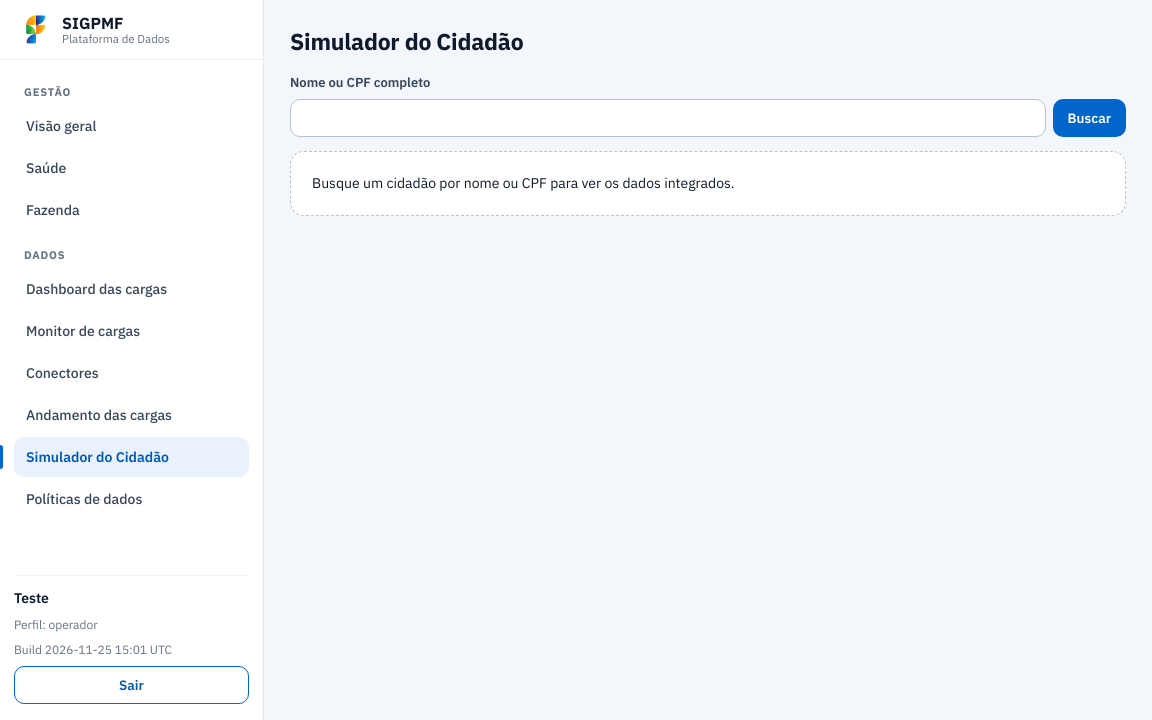
Test: ficha do cidadão (tela branca) › 500 na rota de detalhe mostra erro com motivo e volta à busca
Type "Fulano" into the field labelled "Nome ou CPF completo" at [668, 118], box [290,99,1046,137]
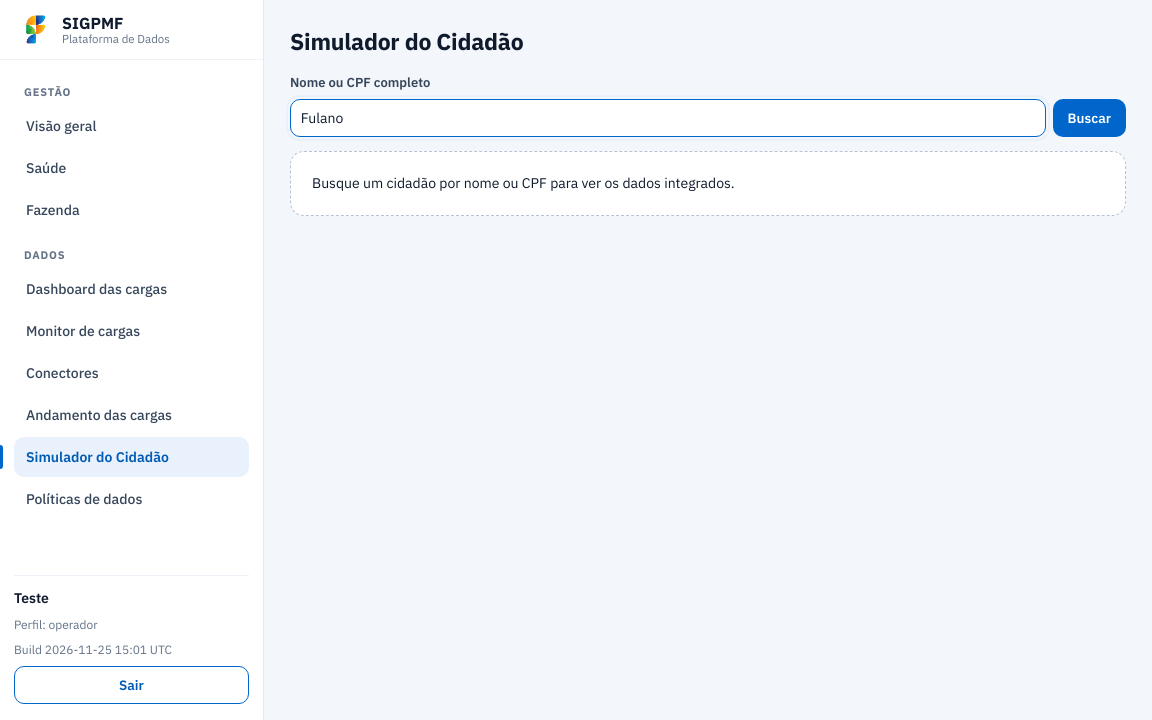
Click the button "Buscar" at [1089, 118], box [1053,99,1126,137]
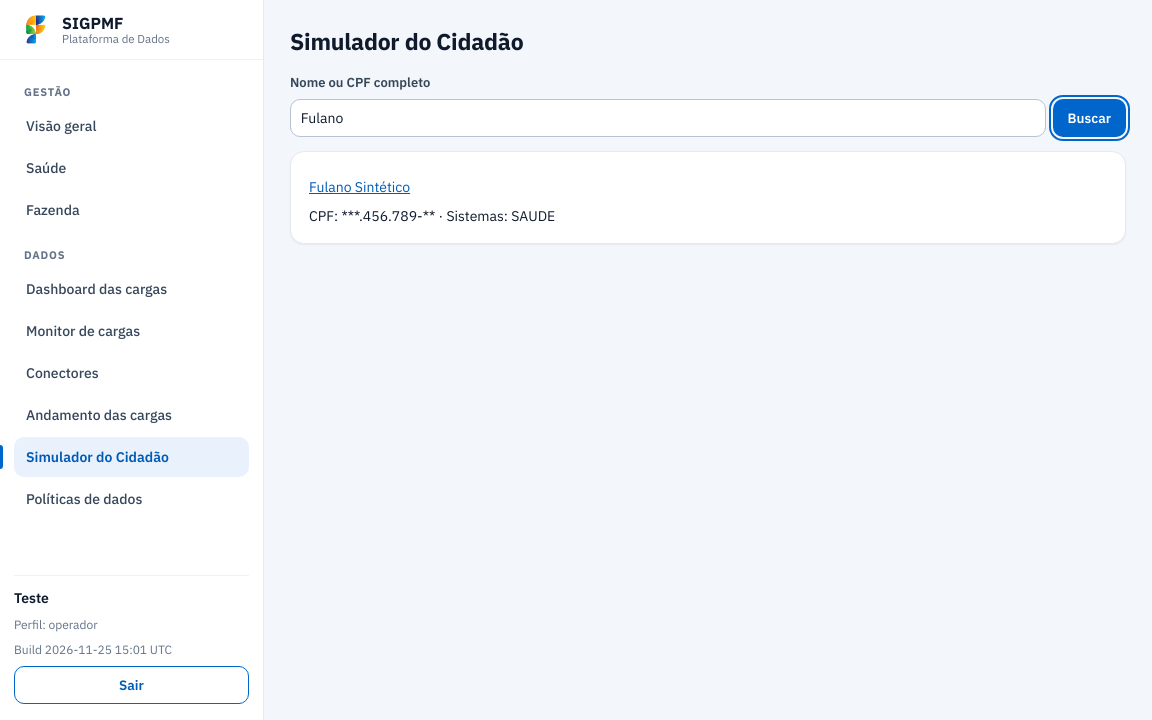
Click the button "Fulano Sintético" at [360, 187], box [309,168,410,206]
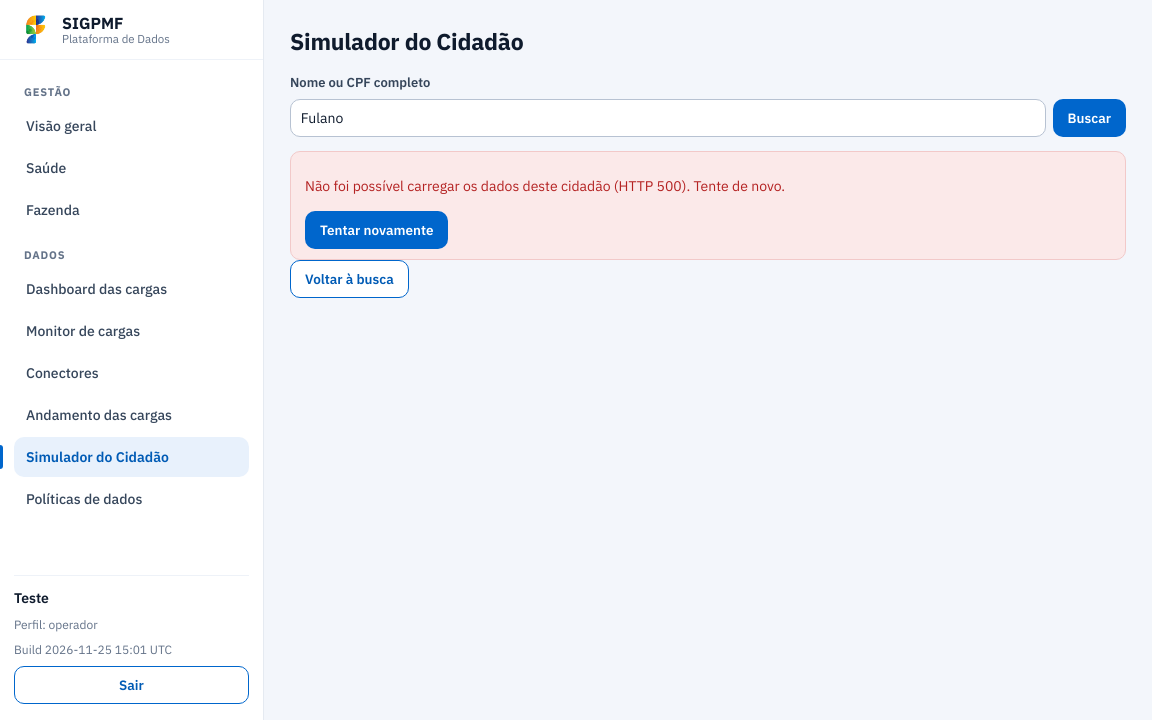
Expected: the text "Não foi possível carregar os dados deste cidadão (HTTP 500)" is shown, [305,177,785,195]
Click the button "Voltar à busca" at [349, 279], box [290,260,409,298]
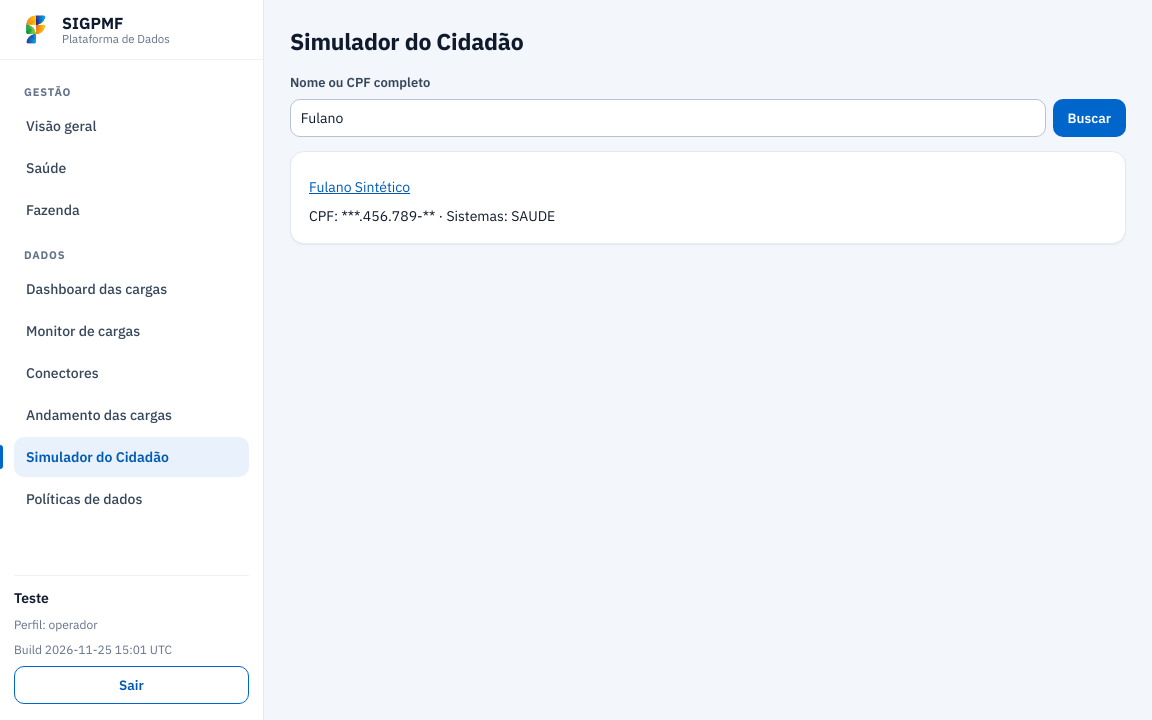
Expected: the button "Fulano Sintético" is shown, [309,168,410,206]
